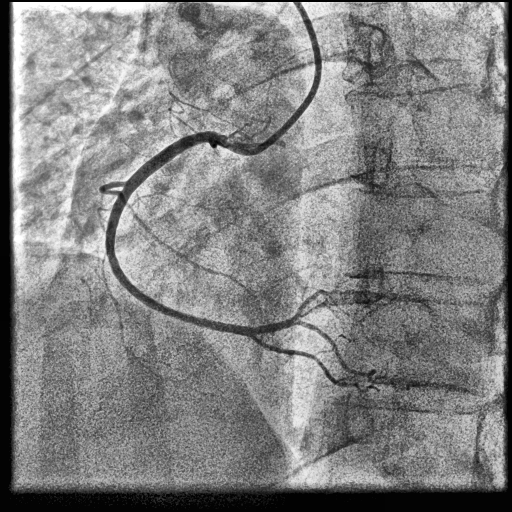pborca: (256, 290, 321, 335)
pda: (252, 335, 380, 393)
rca: (106, 132, 256, 339)
